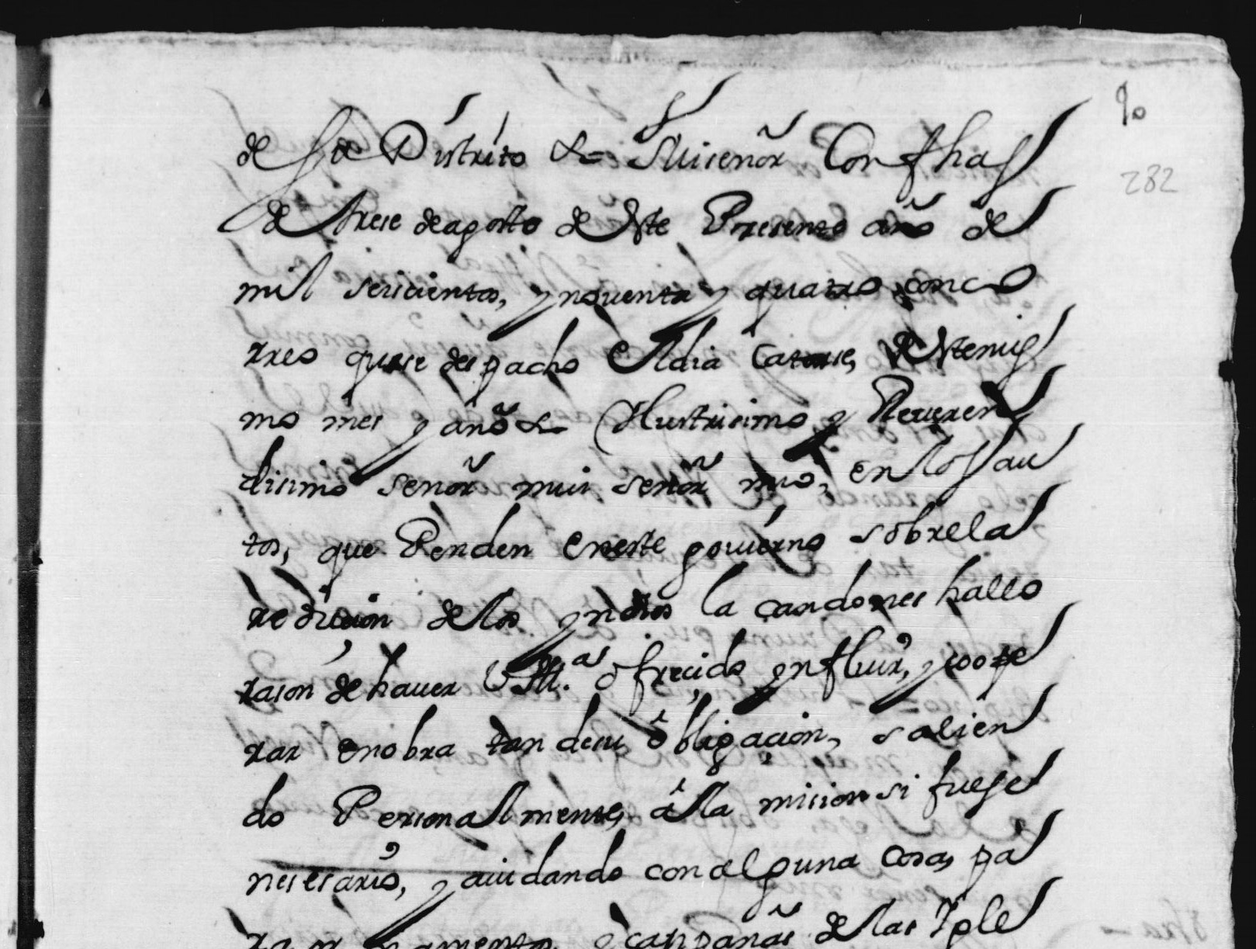lacandon: (701, 558, 926, 618)
